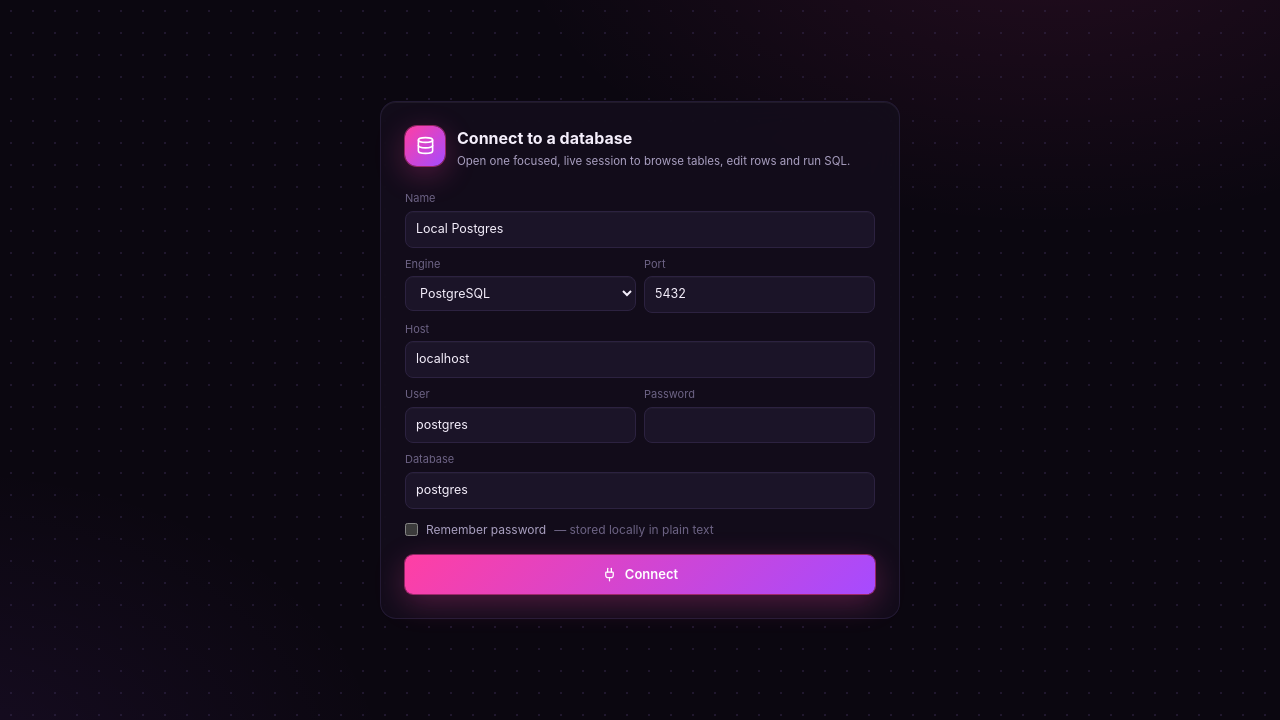
Test case: DatabasePanel connection lifecycle › closes its native session when Database mode is left
What coordinates should you click on to do the following:
click the button "Connect"
I would click on:
 (640, 574)
Its box is [405,555,875,594].
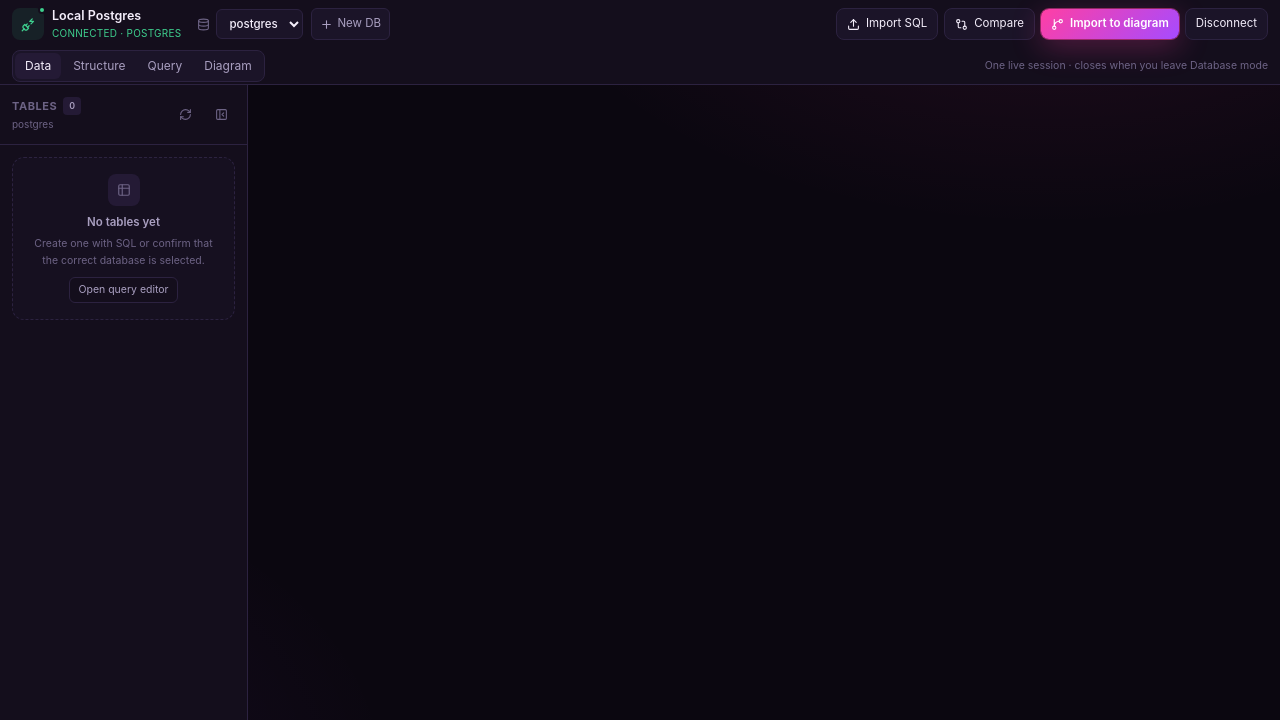
Result: the text "Connected · postgres" is shown at [52,26,181,41]
